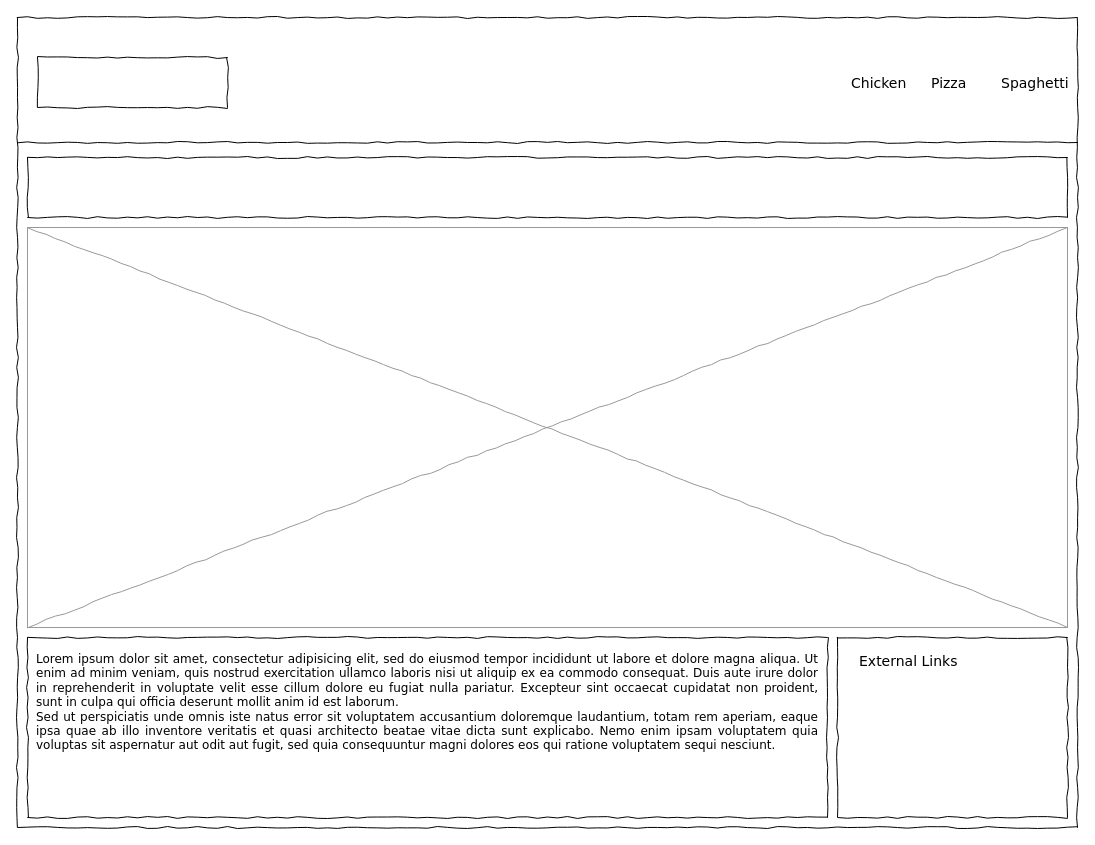
This 1095x845 diagram has some shape labels left out. The box of each missing label's shape, as (x1, y1, x2, y2) in pixels:
About Us: (26, 156, 1068, 218)
Odin Recipes: (36, 56, 228, 108)
